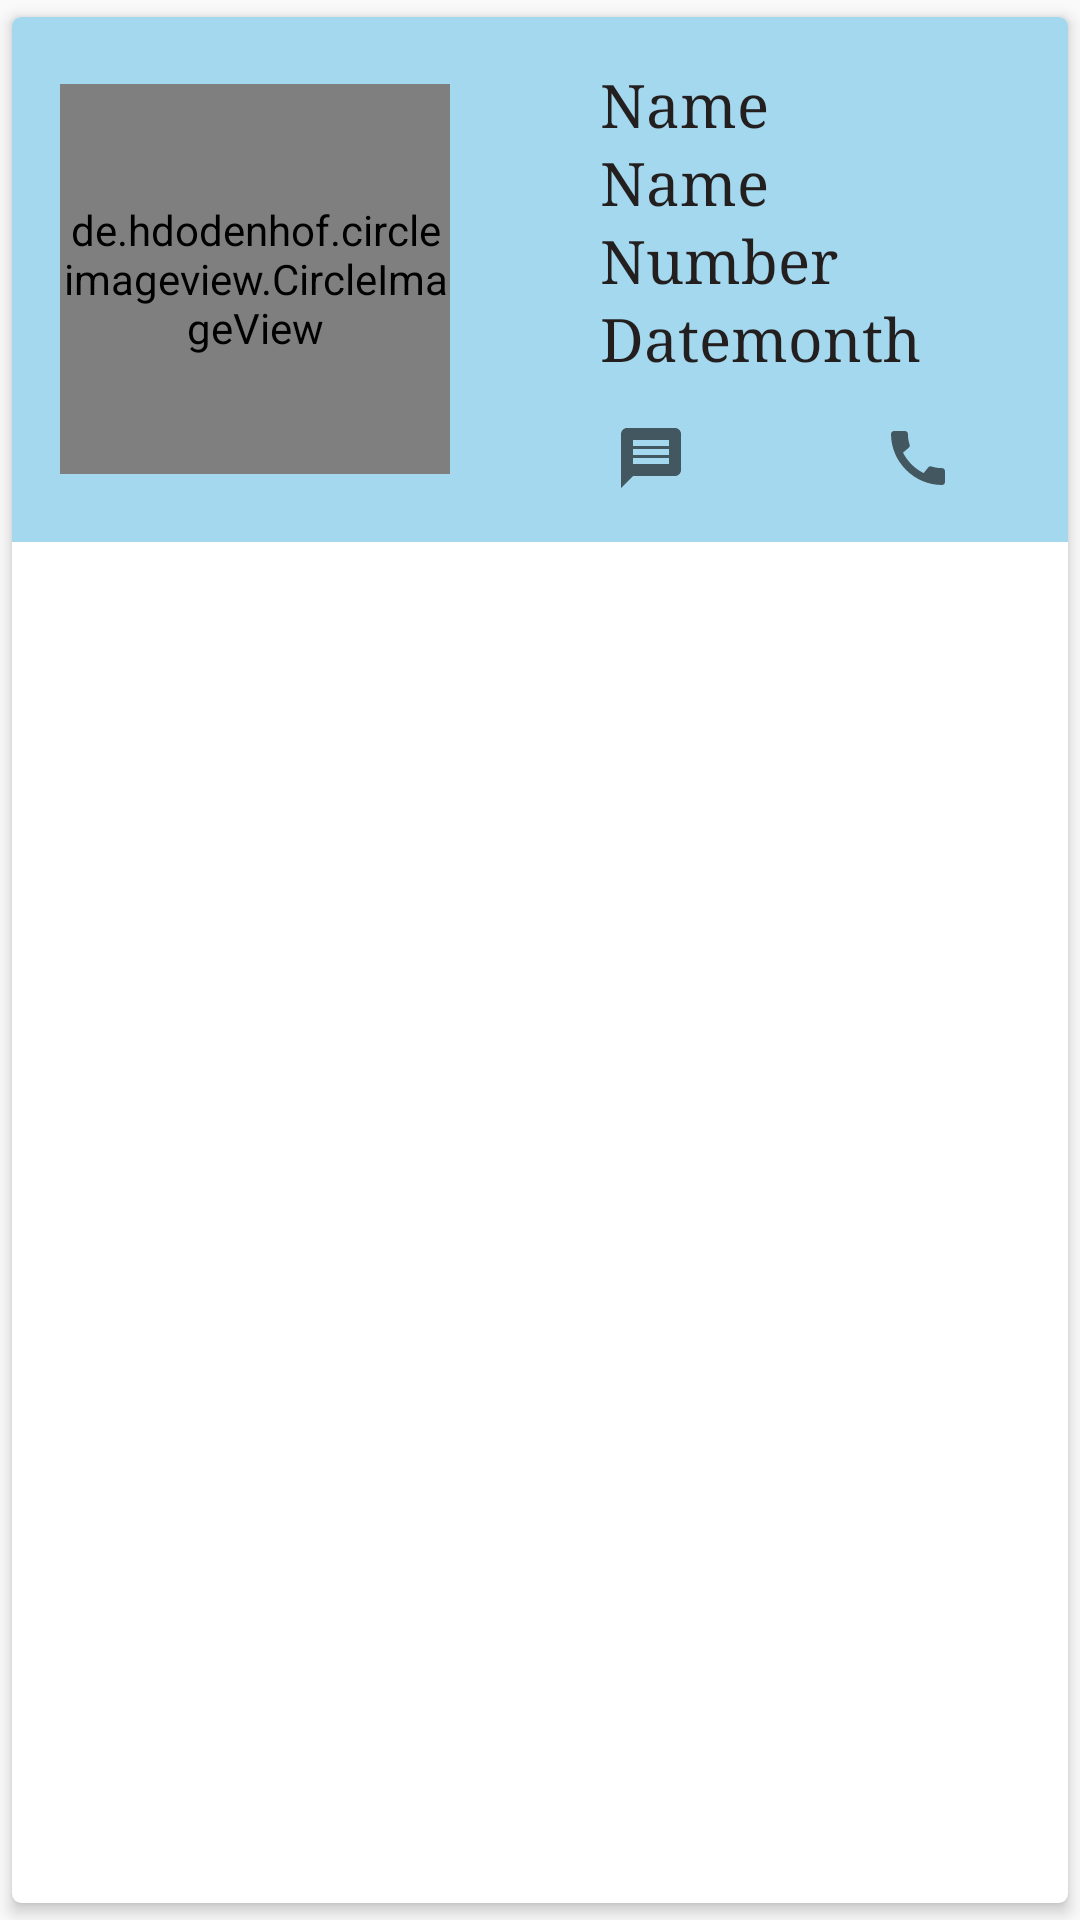

Where icons sit on this 1080 x 1920 app screen, as (x1, y1, x2, y2):
call: (891, 431, 945, 485)
message: (621, 428, 681, 488)
